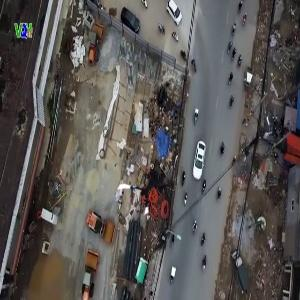drone: (122, 170, 169, 217)
